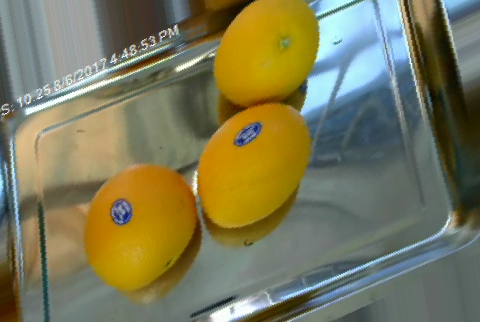Orange: (198, 101, 313, 230), (82, 162, 197, 291), (211, 1, 322, 108)
